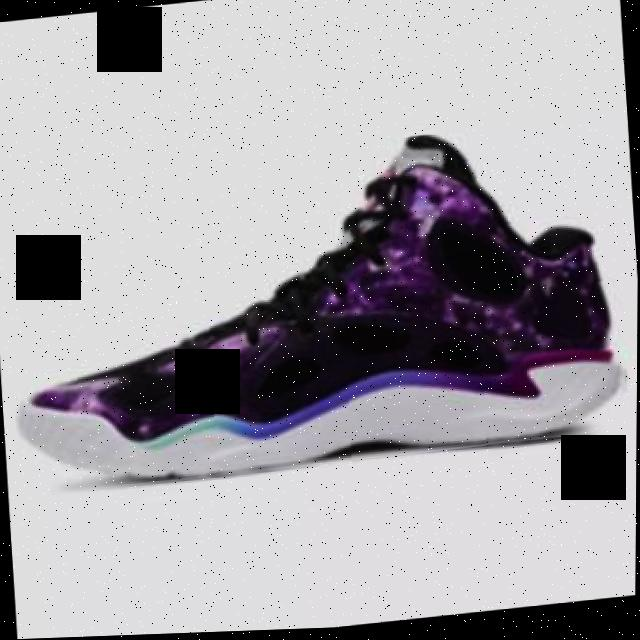shoe: (0, 119, 635, 499)
